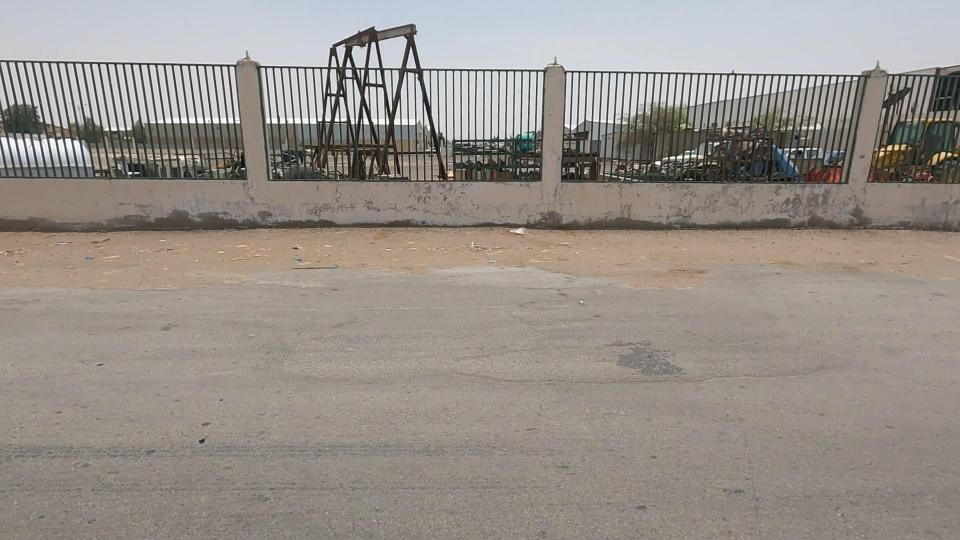GARBAGE: (478, 200, 561, 261)
